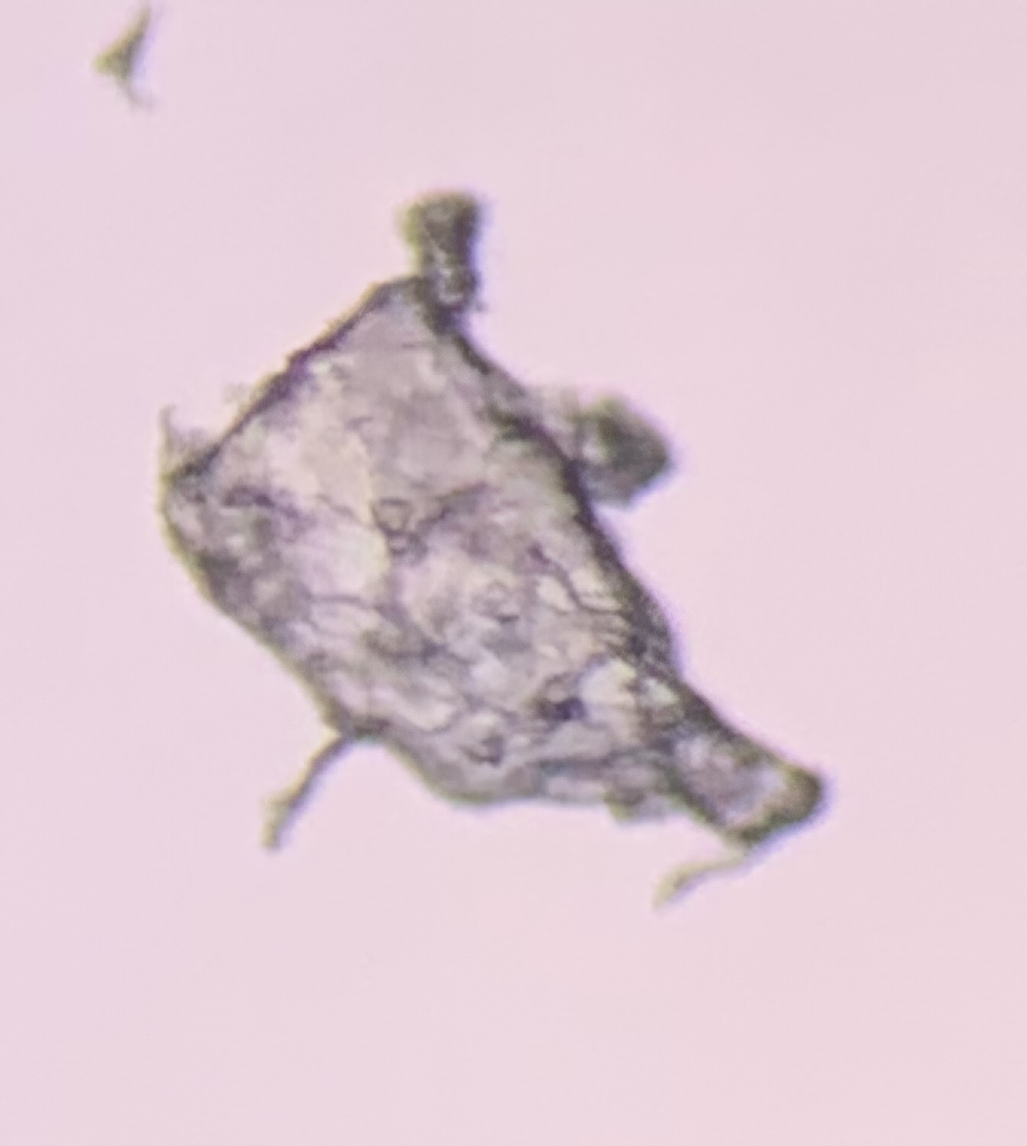microplastic: (152, 184, 832, 917)
